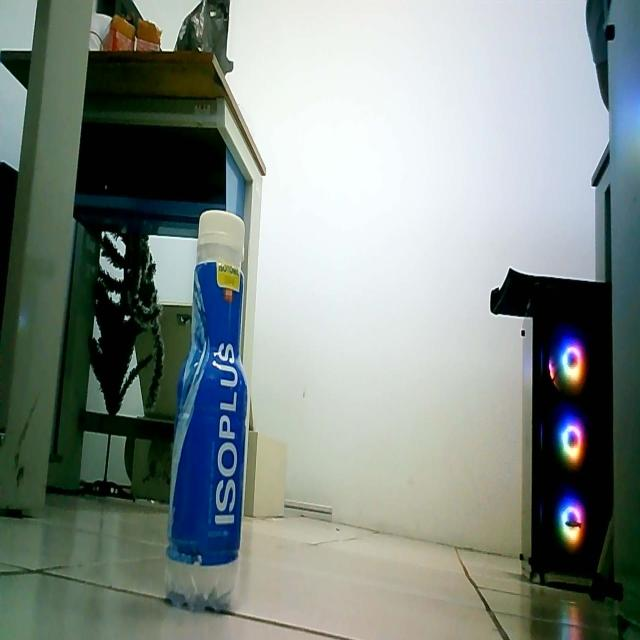botol: (157, 196, 262, 634)
